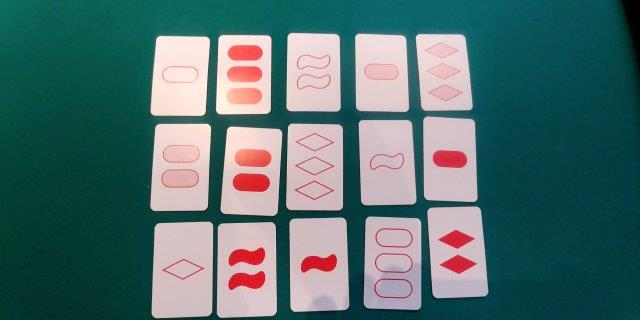1ED: (157, 225, 209, 315)
1EP: (159, 37, 204, 113)
1EW: (362, 123, 410, 203)
1FP: (425, 120, 473, 197)
1FW: (292, 220, 344, 307)
1HP: (359, 36, 404, 107)
2EW: (289, 34, 338, 110)
2FD: (435, 211, 481, 295)
2FP: (230, 130, 274, 211)
2FW: (220, 226, 272, 314)
2HP: (157, 126, 206, 207)
3ED: (290, 126, 340, 207)
3EP: (368, 220, 419, 307)
3FP: (219, 36, 269, 112)
3HD: (423, 36, 464, 107)
